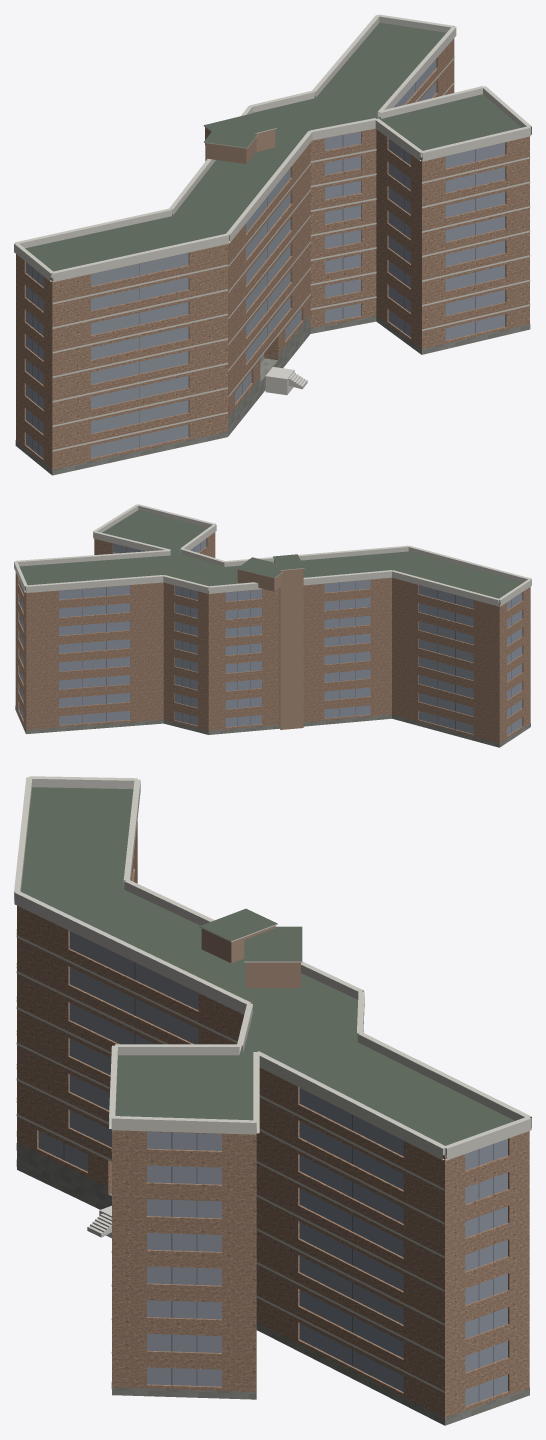
3 renders of one model, top to bottom at view 1: azimuth 30°, elevation 25°; view 2: azimuth 150°, elevation 25°; view 3: azimuth 270°, elevation 25°, orthographic. The views are drawn at different scales.
Visible parts, largest first — view 1: b918__wall, b918__glass, b918__roof, b918__trim, b918__base, b918__wall2, b918__entranceStair, b918__frame; view 2: b918__wall, b918__glass, b918__roof, b918__trim, b918__wall2, b918__base, b918__frame; view 3: b918__wall, b918__roof, b918__glass, b918__trim, b918__base, b918__wall2, b918__frame.
Boxes of the visible parts, <box> form: b918__wall: <box>16,38,529,475</box>; b918__glass: <box>26,59,505,458</box>; b918__roof: <box>25,22,521,420</box>; b918__trim: <box>14,14,531,451</box>; b918__base: <box>15,315,530,475</box>; b918__wall2: <box>205,127,275,163</box>; b918__entranceStair: <box>265,367,307,395</box>; b918__frame: <box>32,82,475,454</box>; b918__wall: <box>15,532,530,747</box>; b918__glass: <box>19,539,522,735</box>; b918__roof: <box>19,510,522,603</box>; b918__trim: <box>14,504,531,606</box>; b918__wall2: <box>237,560,303,729</box>; b918__base: <box>15,706,530,747</box>; b918__frame: <box>20,543,511,732</box>; b918__wall: <box>17,821,529,1425</box>; b918__roof: <box>20,787,514,1399</box>; b918__glass: <box>38,931,507,1406</box>; b918__trim: <box>14,776,531,1392</box>; b918__base: <box>16,1143,529,1425</box>; b918__wall2: <box>201,925,300,987</box>; b918__frame: <box>63,962,493,1401</box>.
Bounding box in the file's own units: 83.07 × 31.57 × 48.8.
9 materials, 2 textured.
